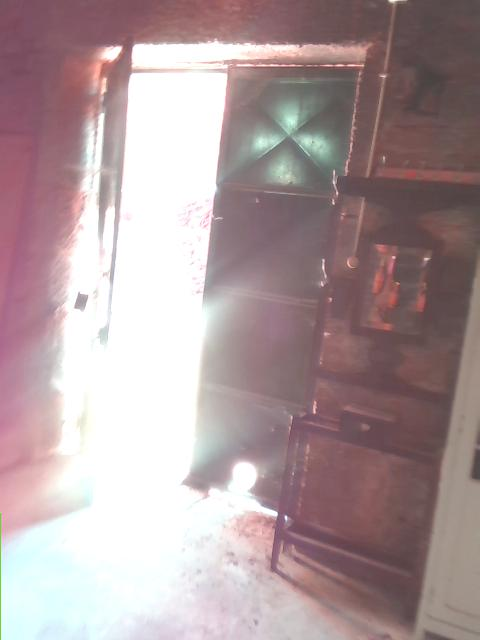semi_door: (63, 30, 364, 560)
